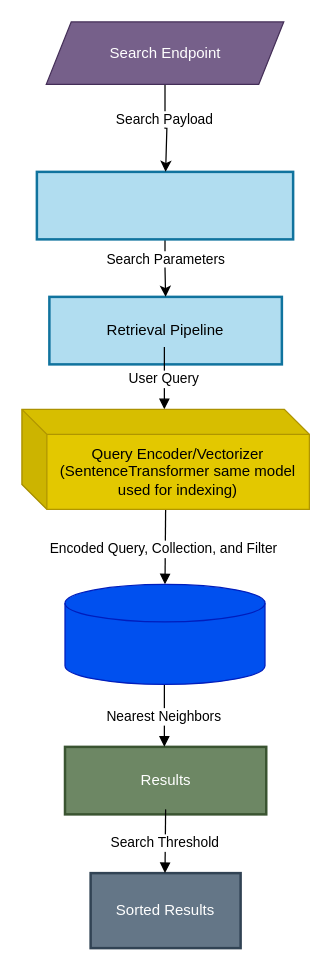
This 331x971 diagram has some shape labels left out. Each missing label, with the centre of its shape:
"Qdrant NN Search" goes at pixel 164 633.
"RAGManager" goes at pixel 164 205.
